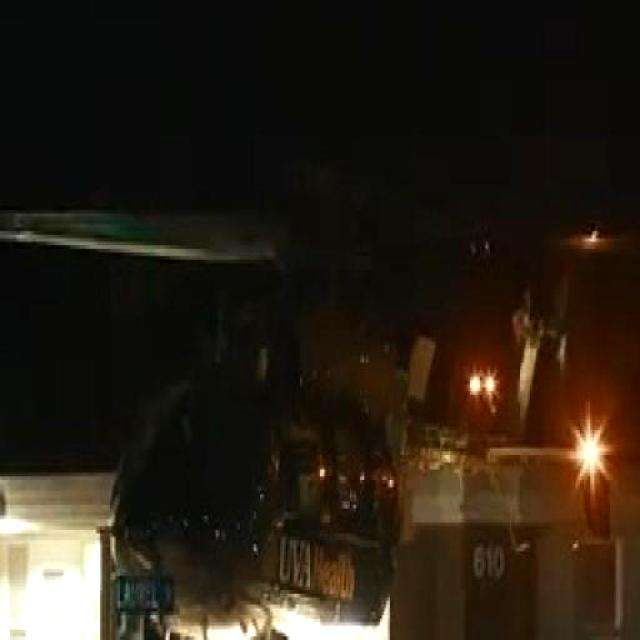drone: (102, 181, 616, 640)
